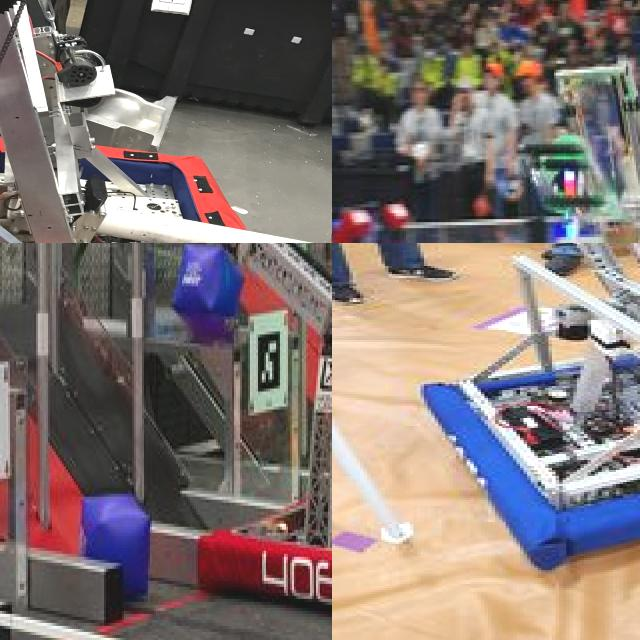FRC-Robots: (0, 0, 332, 243), (393, 243, 640, 540), (144, 303, 332, 615), (488, 0, 640, 243), (332, 193, 414, 243)
